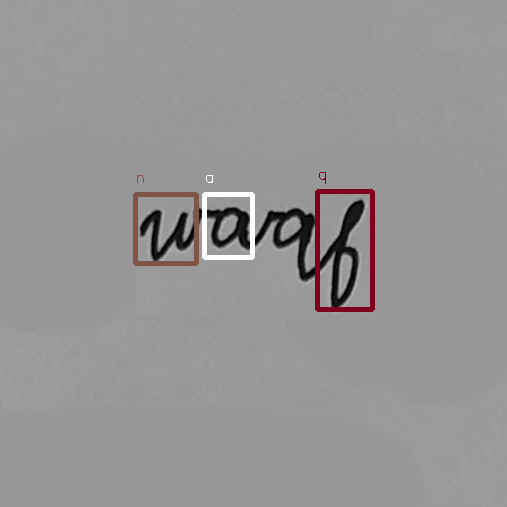a: (165, 178, 250, 268)
f: (400, 162, 480, 396)
q: (287, 177, 380, 338)
w: (34, 175, 158, 292)
